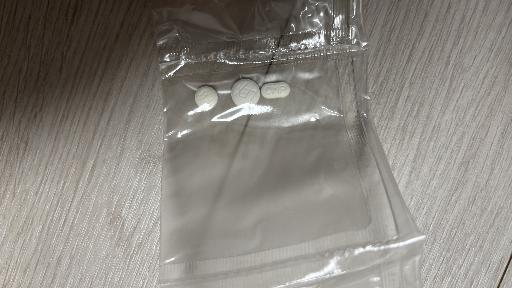Elexin: (195, 86, 218, 110)
Humosa: (261, 82, 290, 99)
Lexofen: (231, 79, 260, 105)
vinyl: (151, 0, 423, 288), (152, 0, 421, 288)
